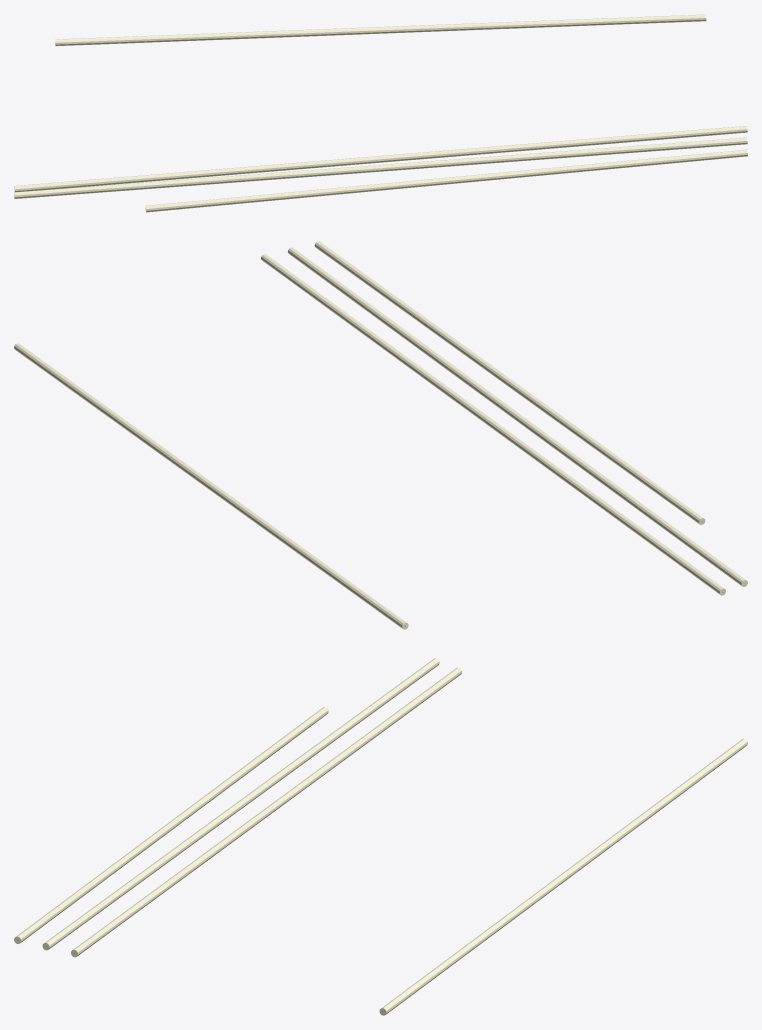
The model's file is tile_111.glb.
3 renders of one model, top to bottom at view 1: azimuth 30°, elevation 25°; view 2: azimuth 150°, elevation 25°; view 3: azimuth 270°, elevation 25°, orthographic. The views are drawn at different scales.
Size of the model in its own units: 28.28 by 1.84 by 22.6.
